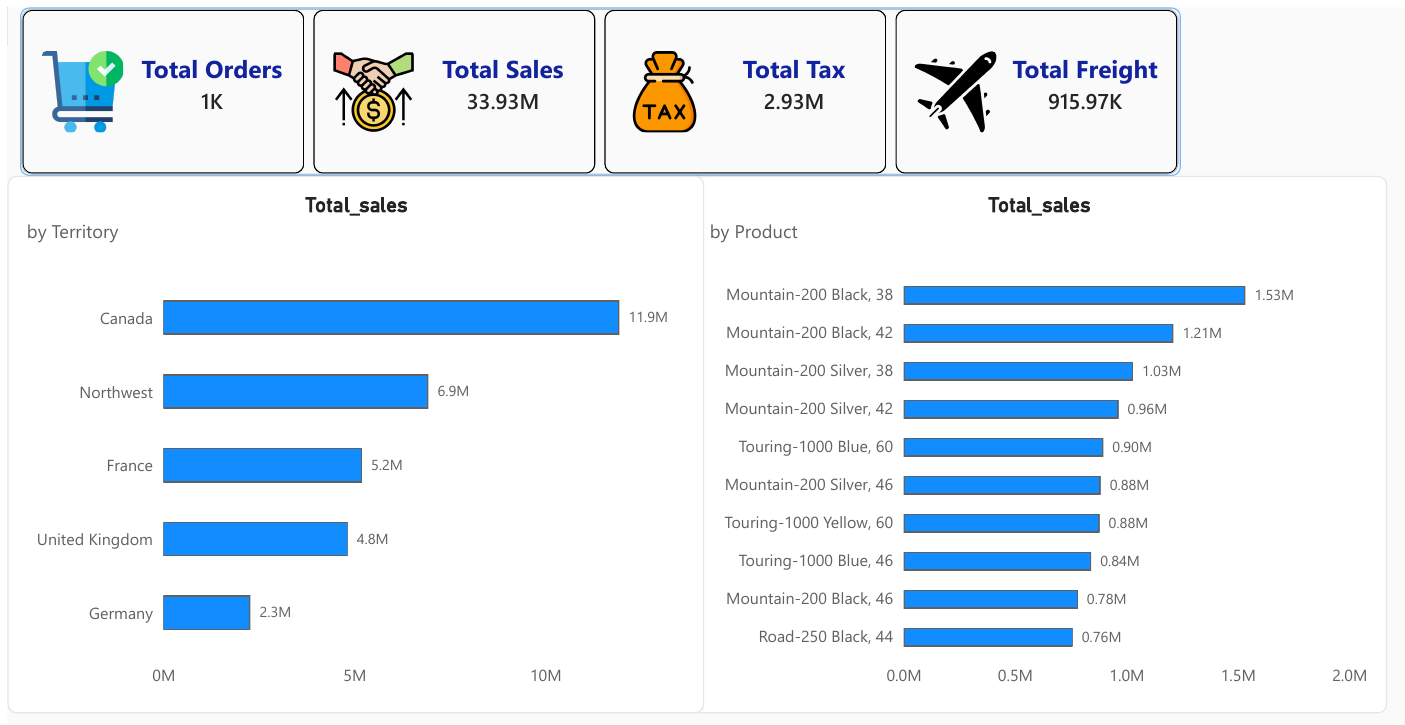

The page's visual inventory and layout, read from the dashboard file:
{"tool":"powerbi","page":{"name":"Graphs","canvas":[1920,1080],"ordinal":0},"visuals":[{"type":"cardVisual","fields":{"Data":["_measures.Total_orders","_measures.Total_sales","_measures.Total_Tax","_measures.Total_Freight"]},"box":[10.7,0,1013.3,146.7],"z":0},{"type":"clusteredBarChart","fields":{"Category":["Dim product.Product"],"Y":["_measures.Total_sales"]},"box":[596,146.7,608,469.3],"z":1000},{"type":"clusteredBarChart","fields":{"Category":["Dim terro.Territory"],"Y":["_measures.Total_sales"]},"box":[0,146.7,608,469.3],"z":2000}]}

Visuals, with their boxes on the page's 1920x1080 design canvas (x1, y1, x2, y2). These are canvas units, not pixel positions in the 1405x725 screenshot, which may show the page scaled, cropped or inside an application window:
cardVisual - _measures.Total_orders x _measures.Total_sales: {"x1": 11, "y1": 0, "x2": 1024, "y2": 147}
clusteredBarChart - Dim product.Product x _measures.Total_sales: {"x1": 596, "y1": 147, "x2": 1204, "y2": 616}
clusteredBarChart - Dim terro.Territory x _measures.Total_sales: {"x1": 0, "y1": 147, "x2": 608, "y2": 616}
